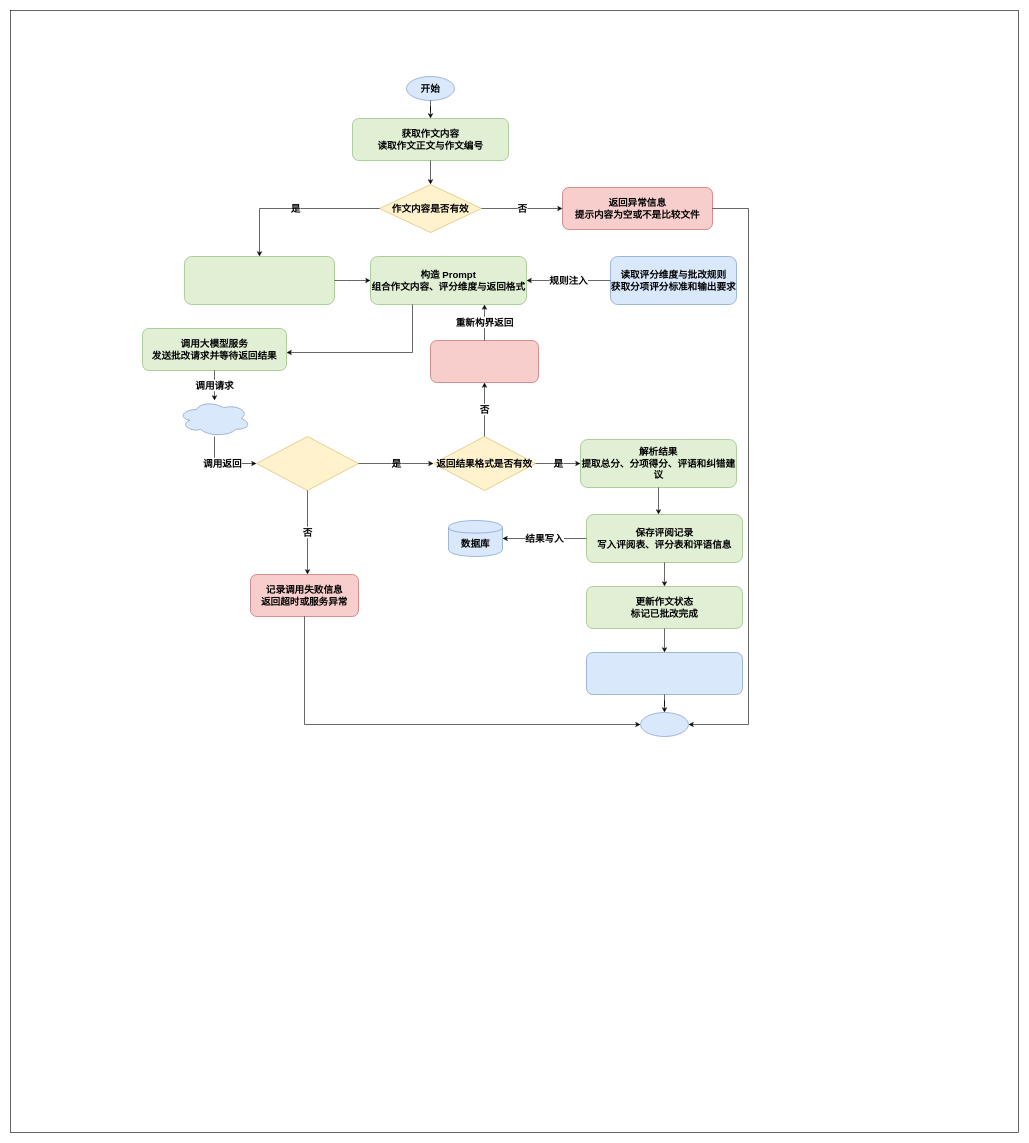
The diagram is 1029 pixels wide and 1143 high, and some of its shapes have lost their labels. Each missing label, with the centre of its shape:
大模型服务: [214,418]
文本预处理 清洗空白字符、特殊符号和无效内容: [259,280]
模型调用是否成功: [307,463]
结束: [664,724]
返回前端展示 输出评分结果、评语和修改建议: [664,673]
重新构造 Prompt 或返回结果解析异常: [484,361]
